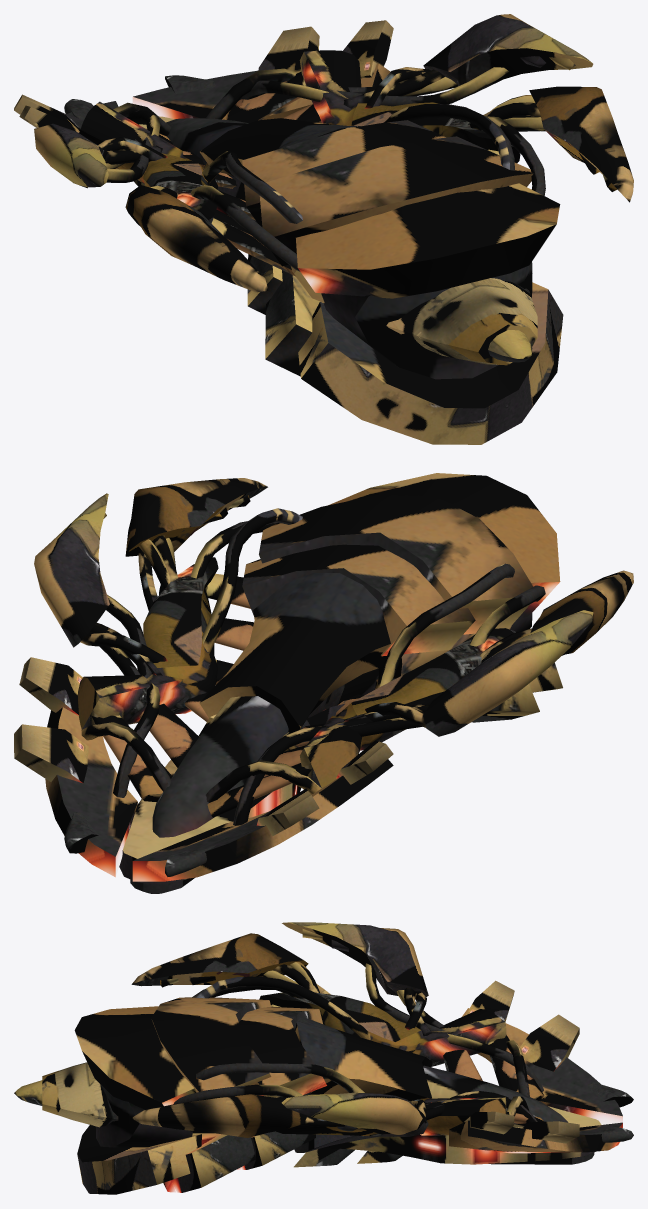
The model's file is ship19e.fbx.
3 views of the same model, one above another, from view 1: azimuth 30°, elevation 25°; view 2: azimuth 150°, elevation 25°; view 3: azimuth 270°, elevation 25° (orthographic). The views are drawn at different scales.
Parts seen in each view (by area): view 1: PipelineFBX; view 2: PipelineFBX; view 3: PipelineFBX.
Boxes of the visible parts, x1,y1,x2,y2 form: PipelineFBX: (14,14,633,444); PipelineFBX: (14,473,633,893); PipelineFBX: (14,922,633,1194).
Bounding box in the file's own units: 526 × 235 × 756.
Materials: 1 (1 with a texture image).
